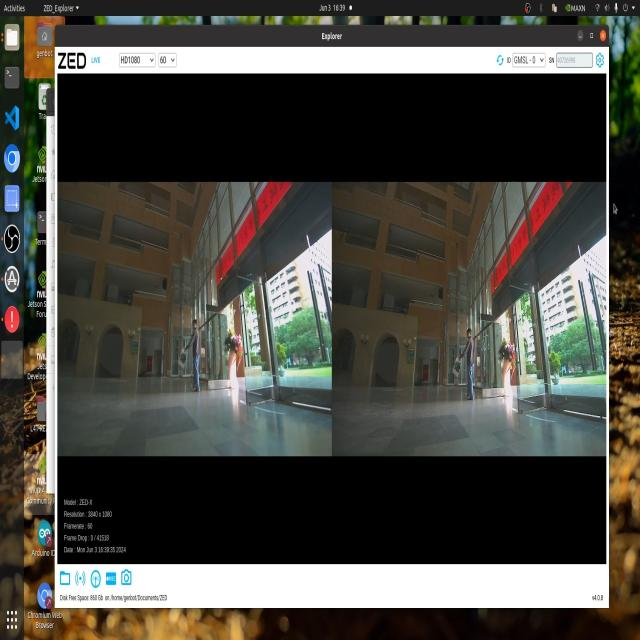green: (179, 353, 187, 364), (454, 360, 460, 372)
